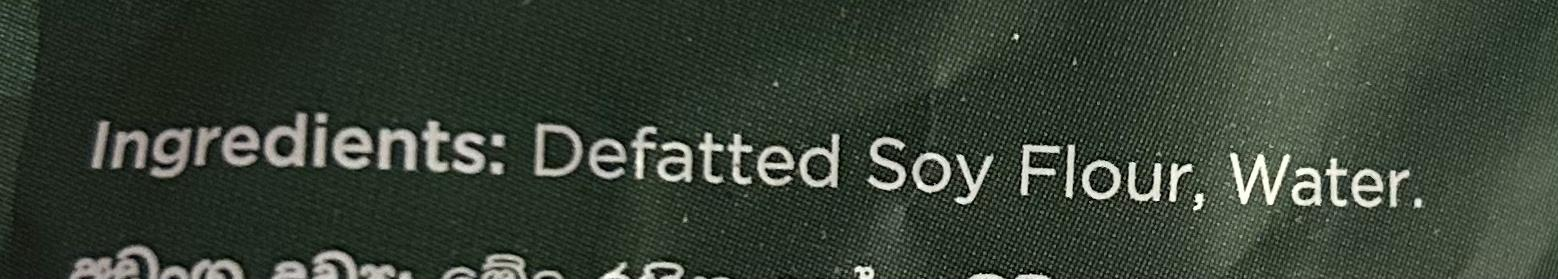ingredients: (89, 79, 1446, 240)
